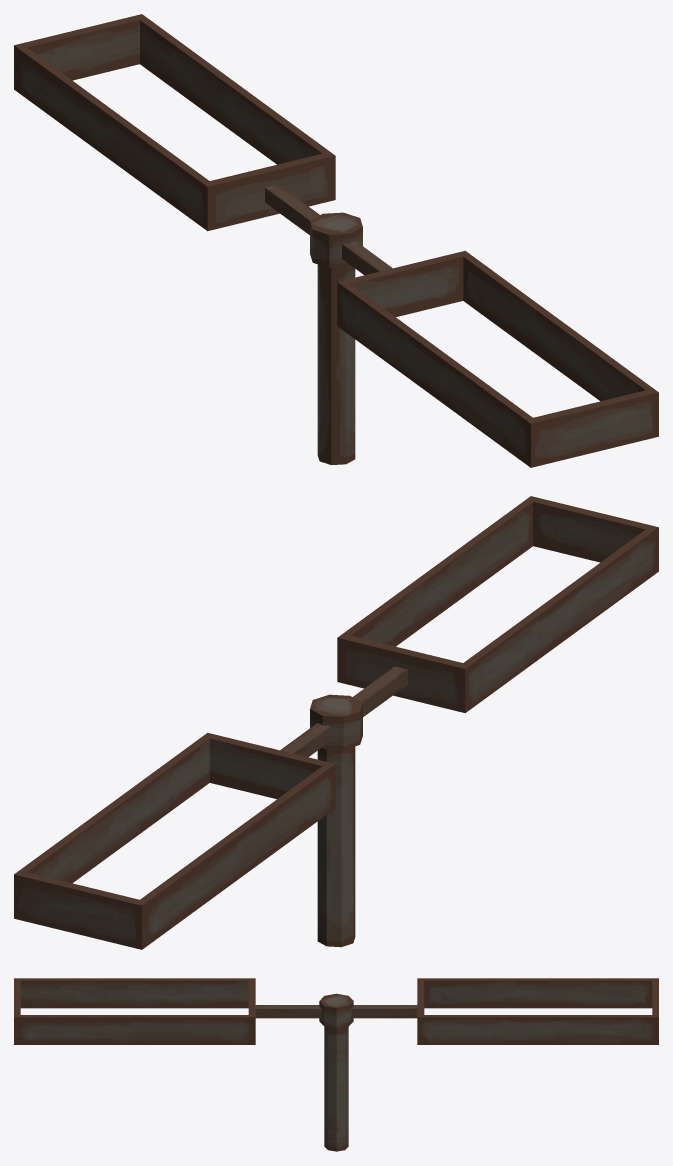
The model's file is rotatingPlatform.fbx.
3 views of the same model, one above another, from view 1: azimuth 30°, elevation 25°; view 2: azimuth 150°, elevation 25°; view 3: azimuth 270°, elevation 25° (orthographic). The views are drawn at different scales.
Parts seen in each view (by area): view 1: bladePlatform3, bladePlatform2, supportBeam, fanCenter, woodSupport2, woodSupport3; view 2: bladePlatform2, bladePlatform3, supportBeam, fanCenter, woodSupport3, woodSupport2; view 3: bladePlatform2, bladePlatform3, supportBeam, fanCenter, woodSupport2, woodSupport3.
Boxes of the visible parts, <box> form: bladePlatform3: <box>337,250,658,467</box>; bladePlatform2: <box>14,14,335,231</box>; supportBeam: <box>317,264,355,464</box>; fanCenter: <box>310,212,362,267</box>; woodSupport2: <box>265,184,319,234</box>; woodSupport3: <box>342,241,392,275</box>; bladePlatform2: <box>14,732,335,949</box>; bladePlatform3: <box>337,496,658,713</box>; supportBeam: <box>317,746,355,947</box>; fanCenter: <box>310,694,362,749</box>; woodSupport3: <box>353,666,407,716</box>; woodSupport2: <box>280,723,330,757</box>; bladePlatform2: <box>417,978,658,1044</box>; bladePlatform3: <box>14,978,255,1044</box>; supportBeam: <box>324,1026,348,1151</box>; fanCenter: <box>319,993,353,1028</box>; woodSupport2: <box>351,1005,417,1018</box>; woodSupport3: <box>255,1005,321,1018</box>.
Size of the model in its own units: 0.1429 by 0.2541 by 0.9987.
